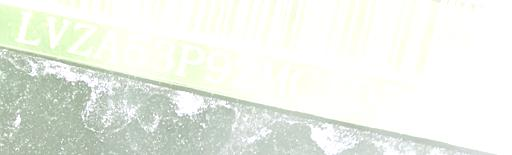letter: (258, 58, 292, 97), (66, 21, 98, 62), (466, 100, 500, 138), (376, 81, 408, 119), (436, 94, 466, 132), (288, 66, 318, 101), (174, 42, 204, 77), (230, 54, 258, 91), (347, 78, 375, 113), (44, 15, 72, 50), (92, 28, 120, 63), (122, 33, 150, 68), (14, 10, 40, 47), (205, 50, 233, 83), (408, 88, 430, 129), (150, 37, 174, 72), (319, 71, 341, 108)
